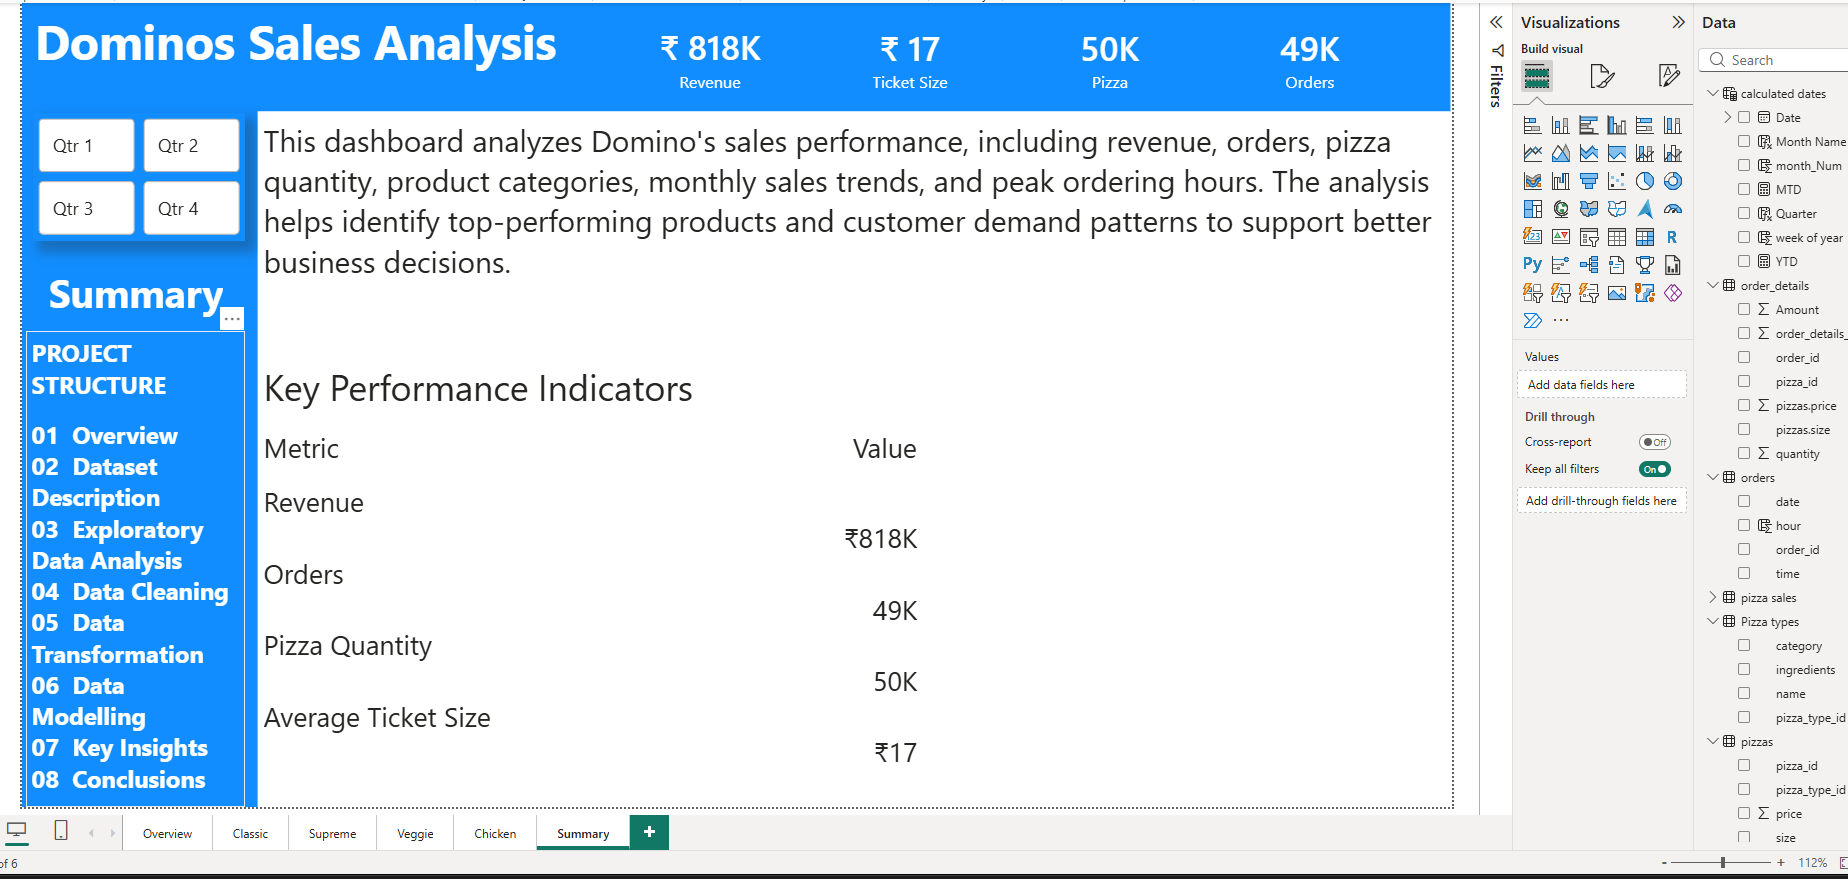

Layout of this report page (visuals, bound fields, positions):
{"tool":"powerbi","page":{"name":"Summary","canvas":[1280,720],"ordinal":5},"visuals":[{"type":"shape","box":[0,0,211.4,720],"z":0},{"type":"shape","box":[204.6,0,1075.4,96.9],"z":1000},{"type":"textbox","box":[0,0,490,96.2],"z":2000},{"type":"cardVisual","fields":{"Data":["Sum(order_details.Amount)","Avg(order_details.Amount)","Sum(order_details.quantity)","CountNonNull(order_details.order_id)"]},"box":[490,0,790,98.6],"z":3000},{"type":"advancedSlicerVisual","fields":{"Values":["calculated dates.Quarter"]},"box":[10,98.5,190,114.6],"z":5000},{"type":"actionButton","box":[17.9,231,168.6,55.7],"z":16000},{"type":"textbox","box":[211.3,99.4,1068.4,187.2],"z":16001},{"type":"textbox","box":[3.6,293.7,196.1,426.3],"z":16002},{"type":"textbox","box":[211.3,316.1,595.5,403.9],"z":16003}]}

Visuals, with their boxes on the page's 1280x720 design canvas (x1, y1, x2, y2). These are canvas units, not pixel positions in the 1848x879 screenshot, which may show the page scaled, cropped or inside an application window:
shape: bbox=(0, 0, 211, 720)
shape: bbox=(205, 0, 1280, 97)
textbox: bbox=(0, 0, 490, 96)
cardVisual - Sum(order_details.Amount) x Avg(order_details.Amount): bbox=(490, 0, 1280, 99)
advancedSlicerVisual - calculated dates.Quarter: bbox=(10, 98, 200, 213)
actionButton: bbox=(18, 231, 186, 287)
textbox: bbox=(211, 99, 1280, 287)
textbox: bbox=(4, 294, 200, 720)
textbox: bbox=(211, 316, 807, 720)
